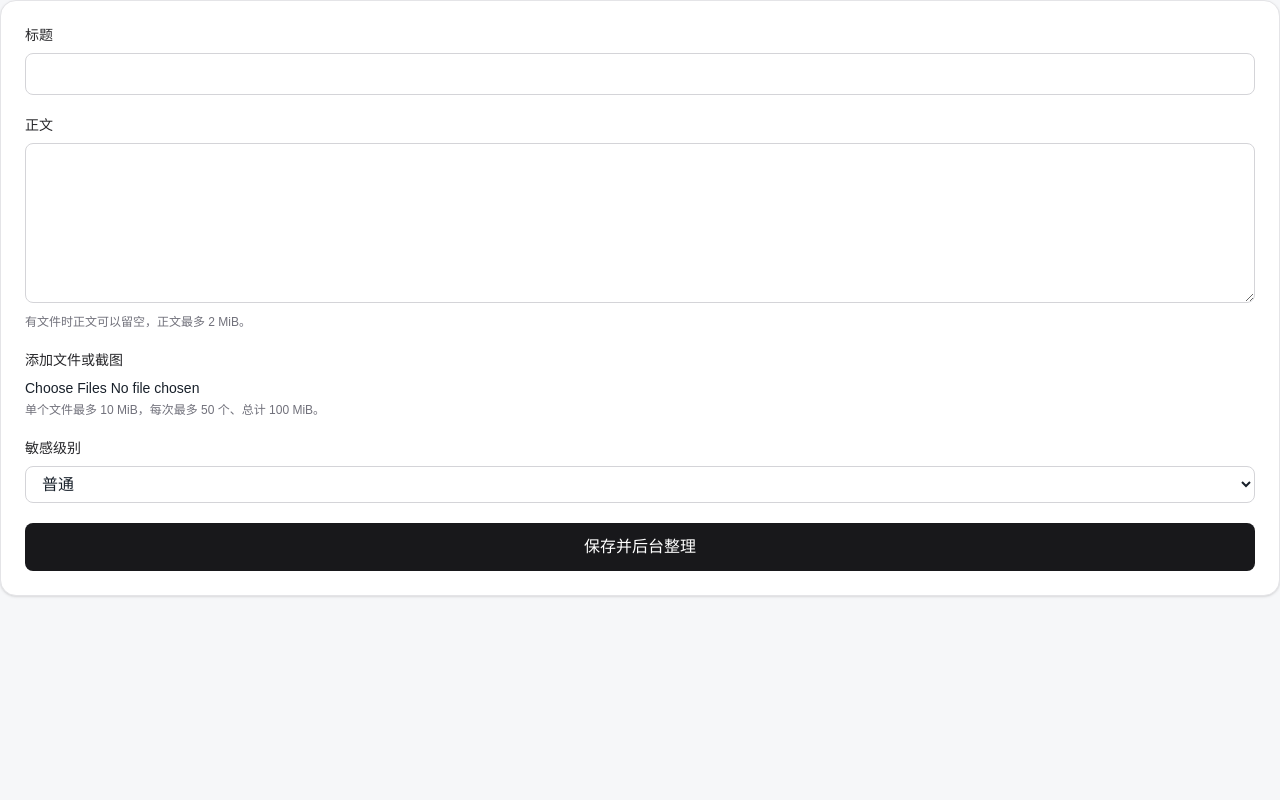
Test: ManualCaptureForm › shows complete capture and queued processing separately
Type "Synthetic title" into the field labelled "标题" at {"x": 640, "y": 74}, box [25,53,1255,95]
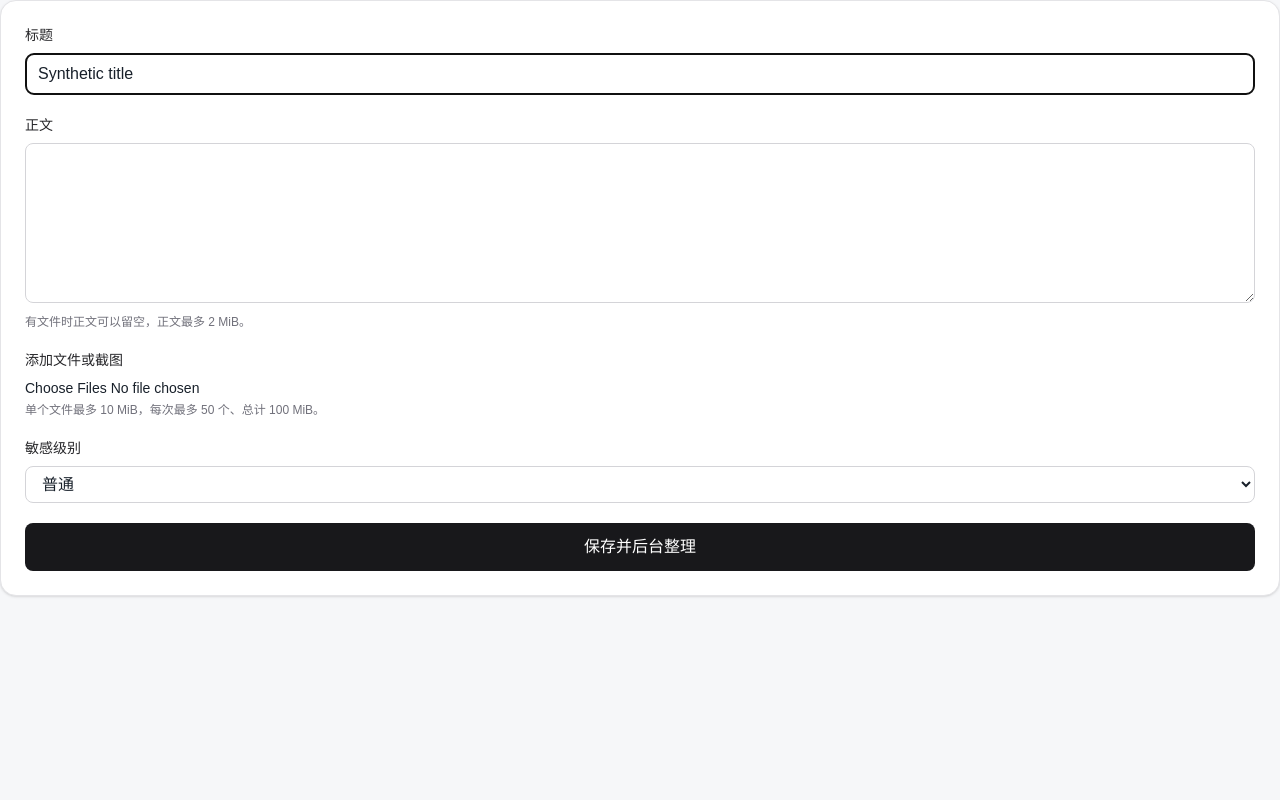
Type "Synthetic body" into the text box labelled "正文" at {"x": 640, "y": 223}, box [25,143,1255,303]
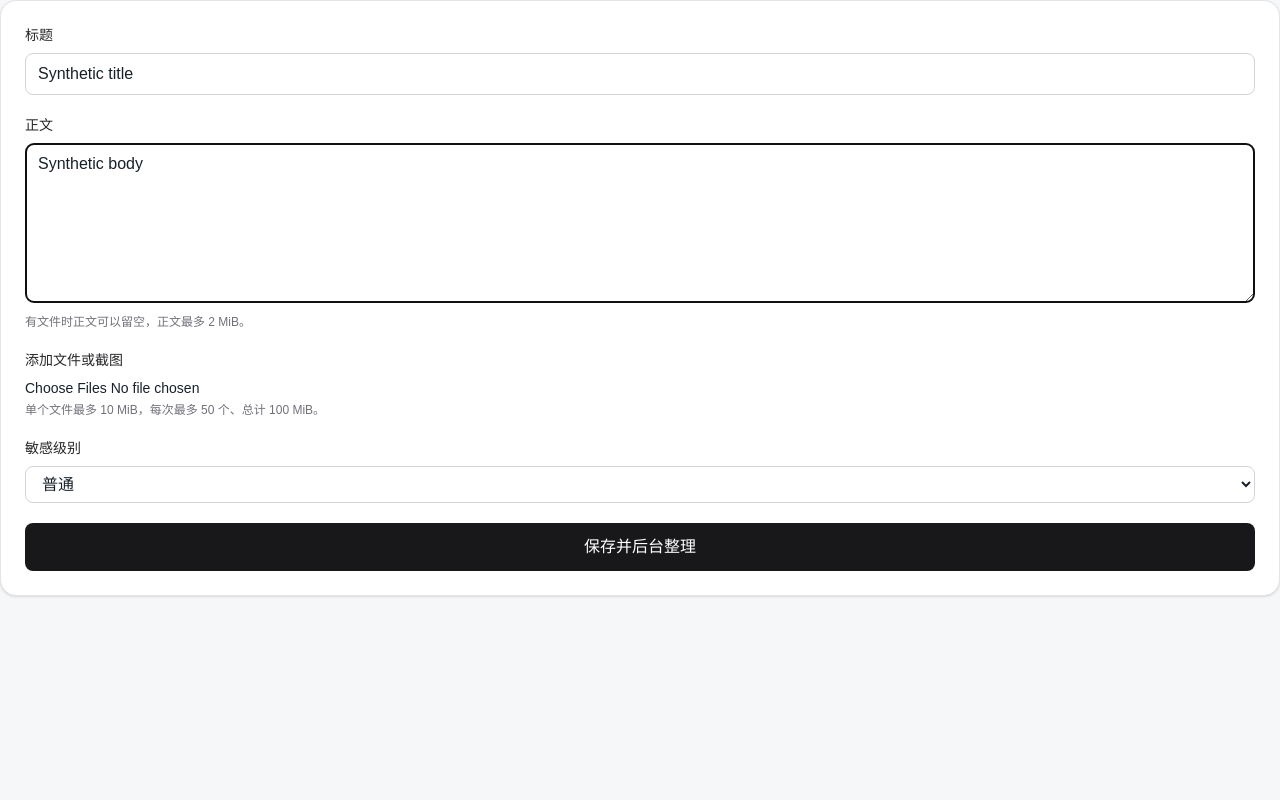
Submit the form named "保存并后台整理"
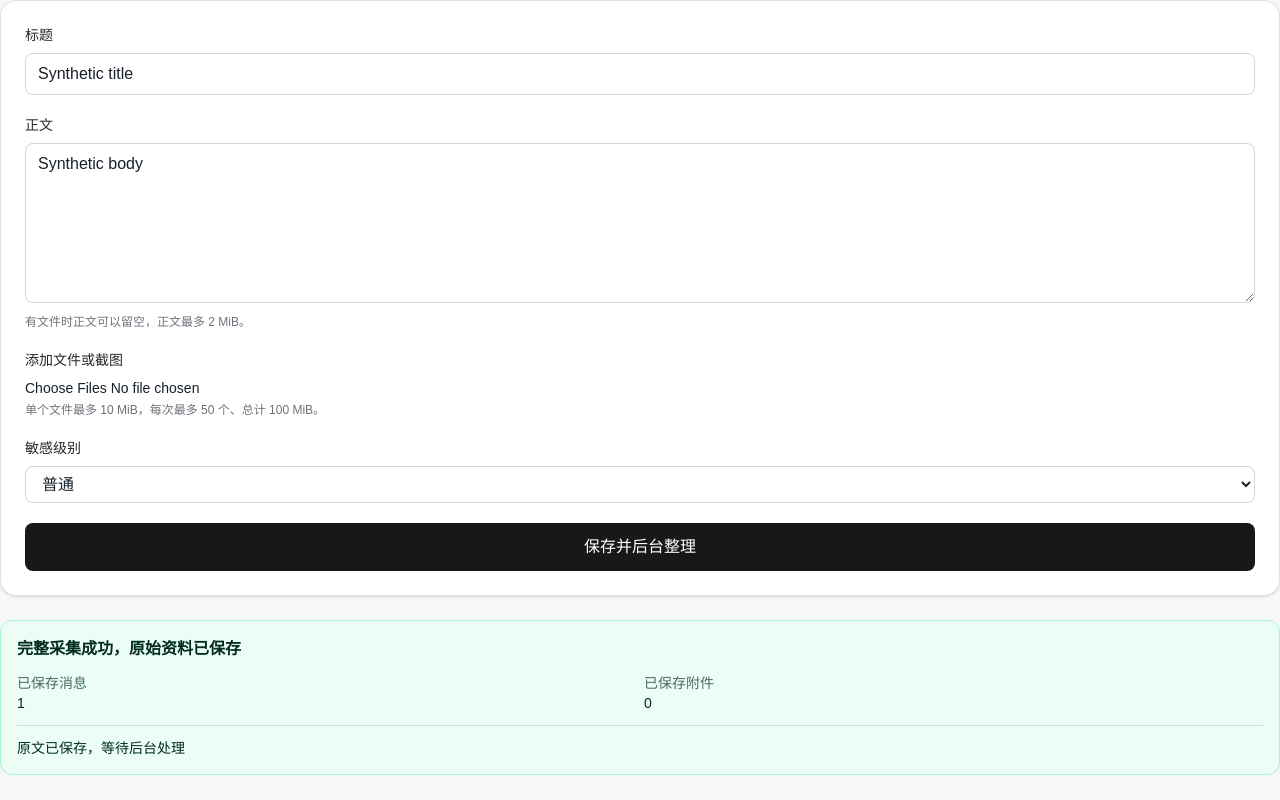
Now the heading "完整采集成功，原始资料已保存" is shown, box [17,640,241,657]
Now the text "原文已保存，等待后台处理" is shown, box [17,725,1263,758]
